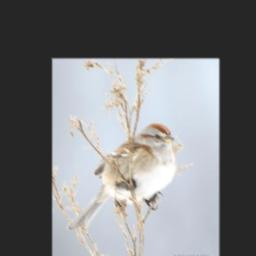Sparrow: (67, 122, 177, 230)
